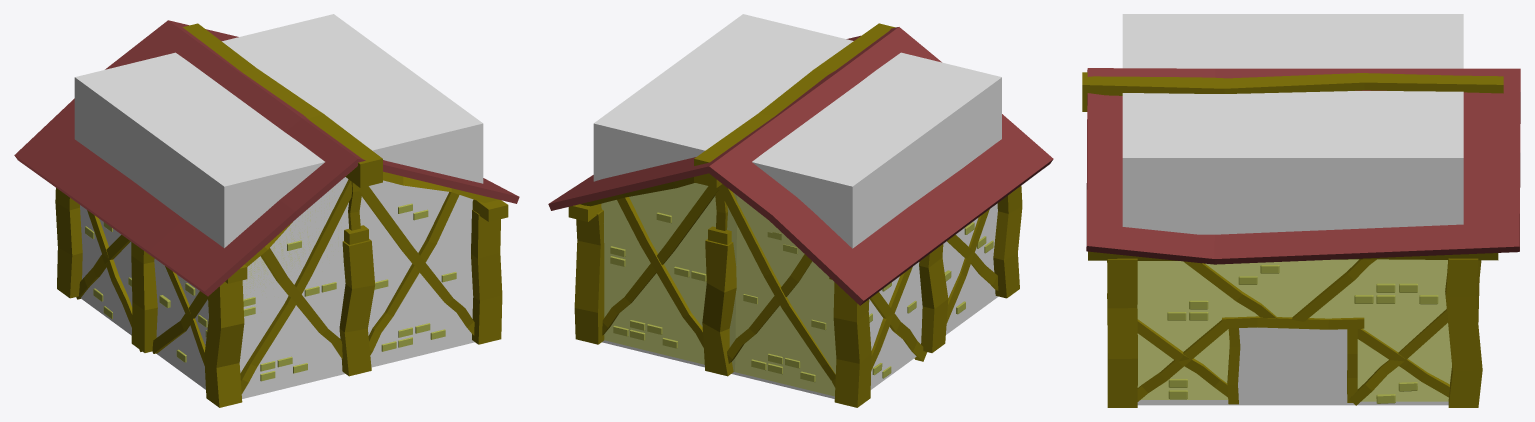
File: The Cloaked.cottage.fbx
The picture shows the model from 3 angles, left to right: view 1: azimuth 30°, elevation 25°; view 2: azimuth 150°, elevation 25°; view 3: azimuth 270°, elevation 25°; orthographic projection. The views are drawn at different scales.
Parts seen in each view (by area): view 1: Ref, Plane.004, Cube.005, Cube.001, Cube.016, Cube.003, Cube.032, Cube.004, Cube.006, Cube.030, Cube.031, Cube.033 (+7 smaller); view 2: Ref, Plane.004, Plane.002, Cube.004, Cube, Cube.002, Cube.016, Cube.005, Cube.006, Cube.028, Cube.026, Cube.027 (+7 smaller); view 3: Ref, Plane.004, Plane, Cube.016, Cube.002, Cube.003, Cube.019, Cube.020, Cube.023, Cube.022, Cube.021, Cube.024 (+4 smaller).
Part boxes in pixels (left/top/right/bottom): Ref: left=74, top=14, right=483, bottom=398; Plane.004: left=14, top=20, right=519, bottom=296; Cube.005: left=204, top=280, right=244, bottom=407; Cube.001: left=339, top=239, right=374, bottom=376; Cube.016: left=182, top=23, right=382, bottom=187; Cube.003: left=471, top=210, right=502, bottom=344; Cube.032: left=240, top=179, right=352, bottom=393; Cube.004: left=55, top=188, right=82, bottom=298; Cube.006: left=131, top=242, right=157, bottom=352; Cube.030: left=354, top=183, right=474, bottom=335; Cube.031: left=368, top=192, right=459, bottom=354; Cube.033: left=260, top=248, right=342, bottom=358; Ref: left=593, top=14, right=1001, bottom=398; Plane.004: left=548, top=27, right=1053, bottom=305; Plane.002: left=601, top=183, right=836, bottom=396; Cube.004: left=833, top=282, right=871, bottom=407; Cube: left=702, top=239, right=736, bottom=376; Cube.002: left=574, top=210, right=604, bottom=344; Cube.016: left=694, top=23, right=895, bottom=187; Cube.005: left=993, top=186, right=1022, bottom=298; Cube.006: left=919, top=244, right=948, bottom=352; Cube.028: left=718, top=184, right=835, bottom=387; Cube.026: left=602, top=186, right=718, bottom=335; Cube.027: left=617, top=197, right=703, bottom=347; Ref: left=1122, top=14, right=1463, bottom=405; Plane.004: left=1086, top=68, right=1520, bottom=264; Plane: left=1137, top=259, right=1451, bottom=401; Cube.016: left=1082, top=72, right=1503, bottom=111; Cube.002: left=1445, top=258, right=1482, bottom=407; Cube.003: left=1107, top=258, right=1137, bottom=407; Cube.019: left=1222, top=316, right=1364, bottom=329; Cube.020: left=1349, top=309, right=1447, bottom=405; Cube.023: left=1137, top=320, right=1230, bottom=401; Cube.022: left=1137, top=319, right=1237, bottom=397; Cube.021: left=1357, top=329, right=1449, bottom=397; Cube.024: left=1183, top=261, right=1276, bottom=318.
Size of the model in its own units: 1218 by 866 by 1286.
